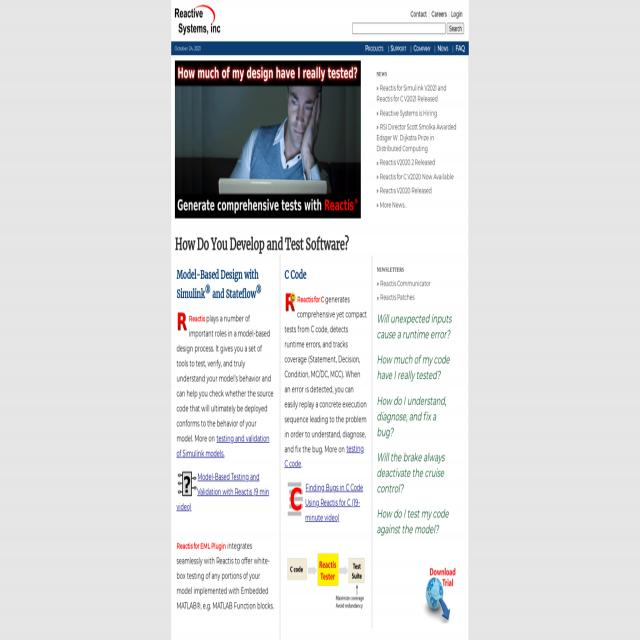button: (175, 61, 361, 218), (284, 551, 368, 610), (421, 554, 462, 628), (174, 5, 220, 35), (285, 480, 305, 518), (177, 470, 197, 498), (177, 312, 189, 332), (285, 292, 297, 312), (446, 23, 464, 34)
field: (352, 23, 446, 34)
